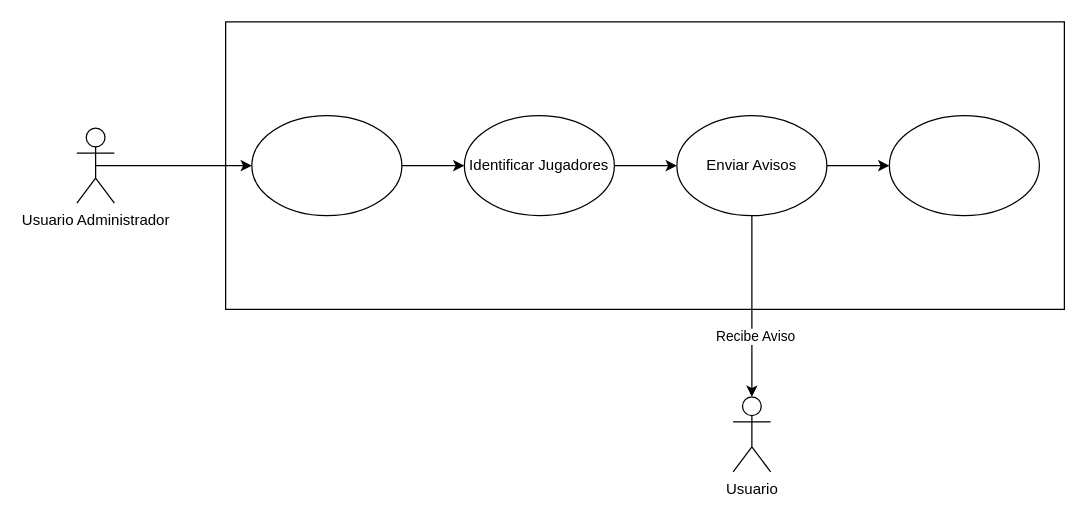
The diagram is 1086 pixels wide and 520 high, and some of its shapes have lost their labels. Here are the shapes that lost their labels. From the top down, the centre of each, then its label:
At point 326,165: "Generar Informes".
At point 963,165: "Registro de Avisos".
